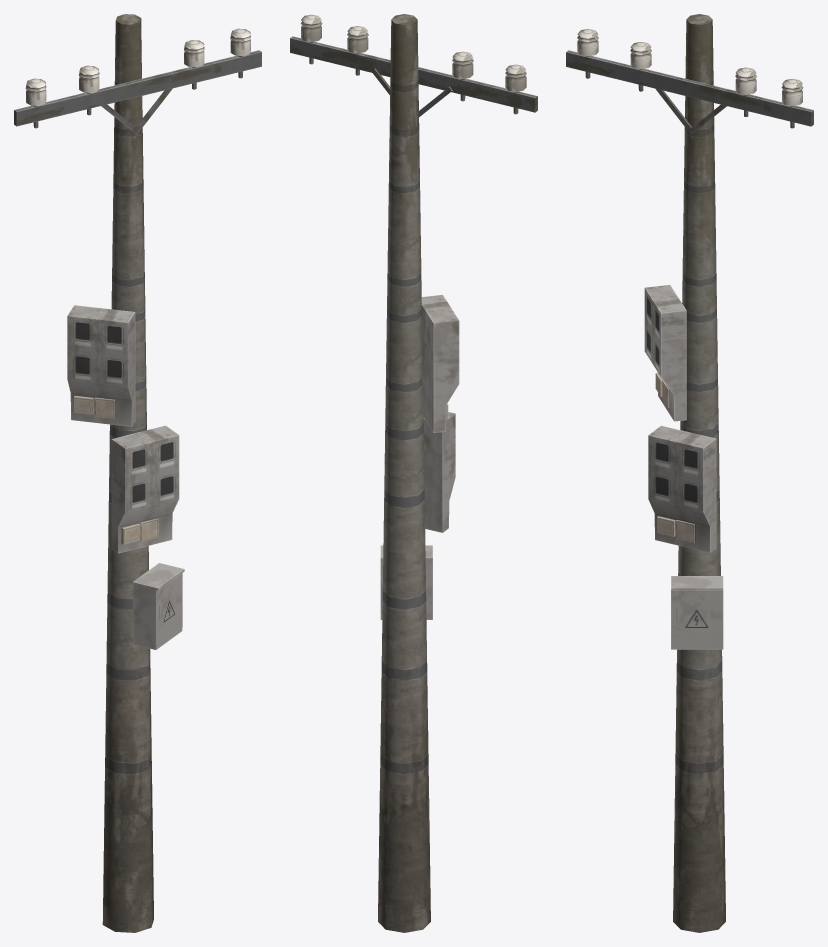
Rendered from SM_ElectricPole_2V.fbx.
3 renders of one model, left to right at view 1: azimuth 30°, elevation 25°; view 2: azimuth 150°, elevation 25°; view 3: azimuth 330°, elevation 25°, orthographic.
Parts seen in each view (by area): view 1: SM_ElectricPole_2V; view 2: SM_ElectricPole_2V; view 3: SM_ElectricPole_2V.
Boxes of the visible parts, x1,y1,x2,y2 form: SM_ElectricPole_2V: (14, 14, 261, 932); SM_ElectricPole_2V: (290, 14, 537, 932); SM_ElectricPole_2V: (566, 14, 813, 932).
Bounding box in the file's own units: 182 × 640 × 54.06.
